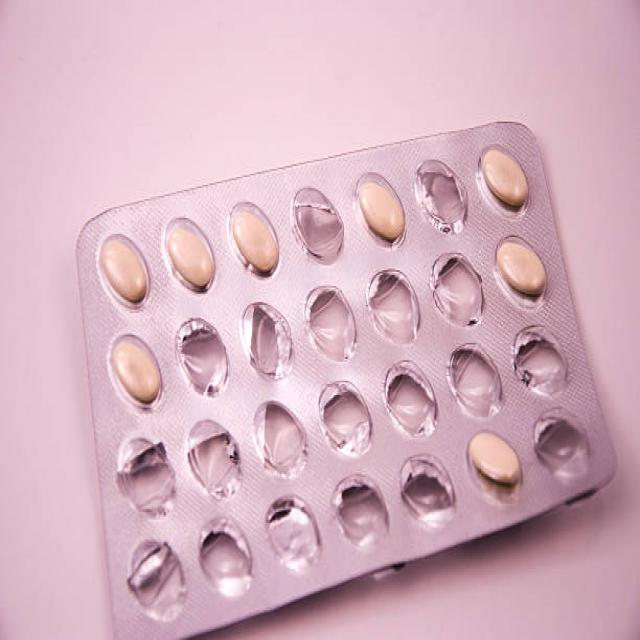Empty: (130, 528, 189, 634), (507, 318, 571, 407), (328, 474, 395, 559), (112, 431, 175, 519), (198, 511, 255, 608), (173, 312, 235, 401), (251, 397, 314, 484), (262, 489, 324, 576), (318, 370, 374, 466), (381, 355, 439, 447), (289, 178, 346, 270), (365, 262, 425, 349), (443, 340, 505, 422), (188, 412, 242, 506), (302, 280, 360, 366), (238, 299, 294, 388), (416, 155, 470, 246), (430, 248, 486, 334), (397, 458, 458, 534), (532, 412, 588, 492)
Pill: (160, 194, 222, 307), (91, 222, 156, 318), (101, 325, 167, 415), (492, 221, 548, 318), (230, 188, 281, 289), (354, 164, 408, 258), (460, 426, 529, 498), (474, 136, 534, 218)
